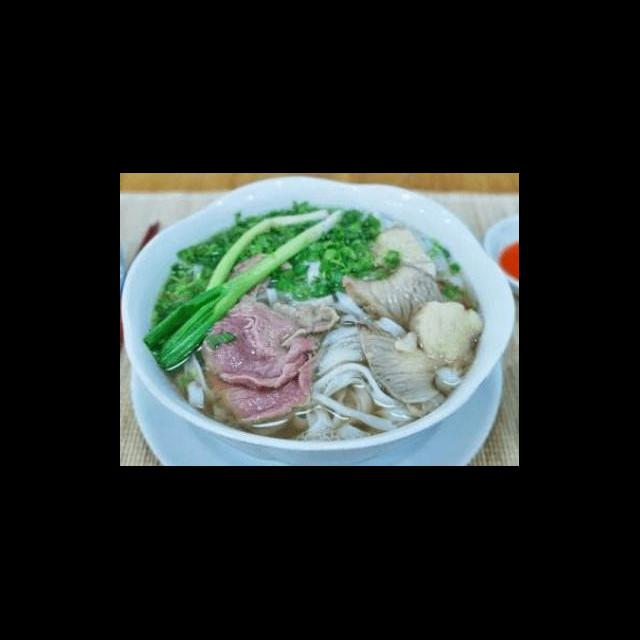banh pho: (306, 324, 404, 446), (178, 352, 228, 424)
pho bo: (120, 197, 495, 467)
thit bo: (196, 290, 342, 396), (338, 222, 468, 328), (356, 314, 454, 418), (200, 354, 322, 426), (220, 250, 298, 308)
